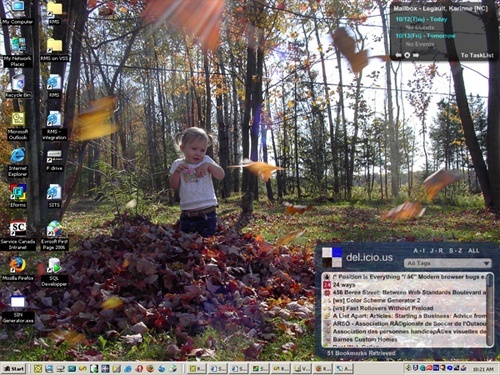head: (175, 125, 211, 168)
person: (166, 126, 224, 235)
